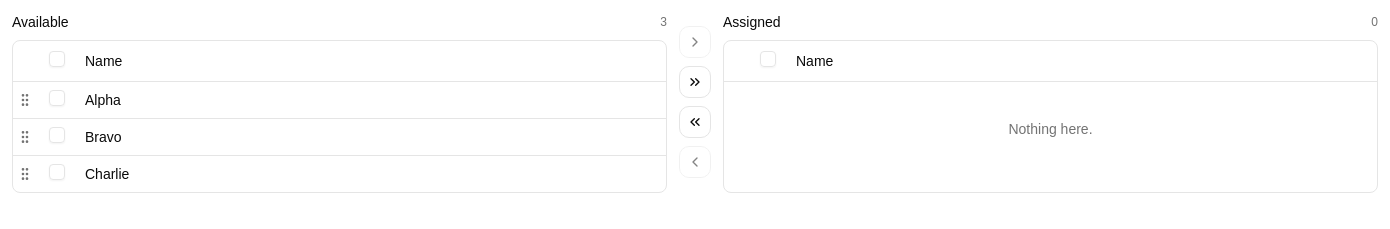
TransferTable › moves all rows right with the move-all button
This screenshot has width=1390, height=229.
What coordinates should you click on to do the following:
click the button named "Move all"
I would click on:
 (695, 82)
Its box is [679, 66, 711, 98].
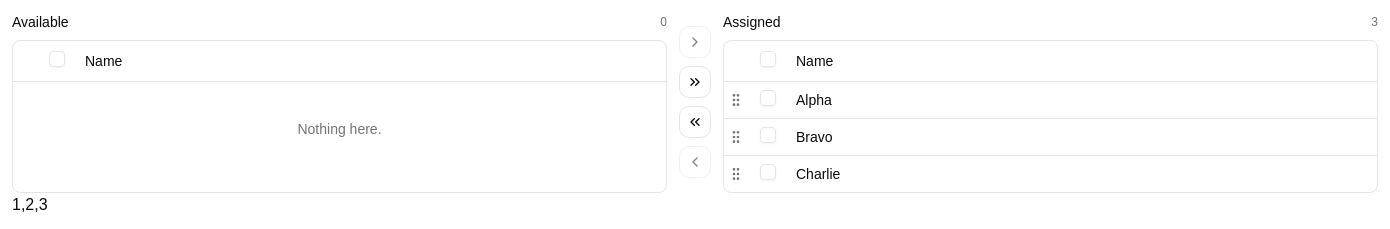
Expected: the text with test id "assigned" reads "1,2,3", [12, 196, 48, 212]
